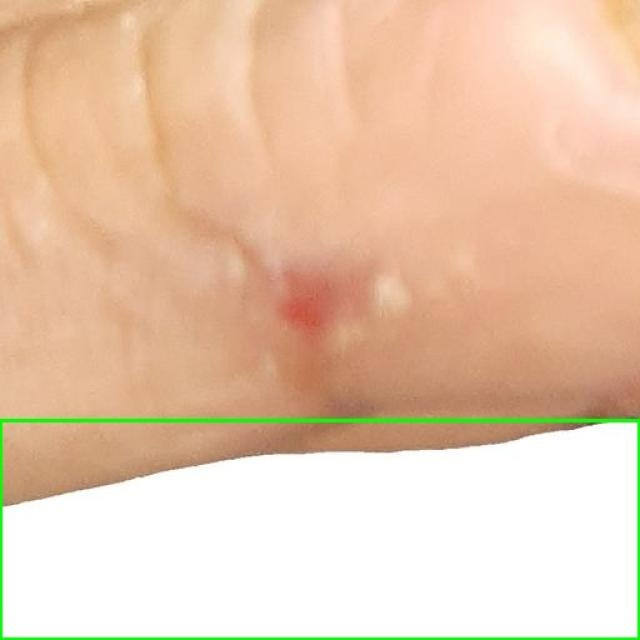Contact Dermatitis: (0, 420, 639, 639)
